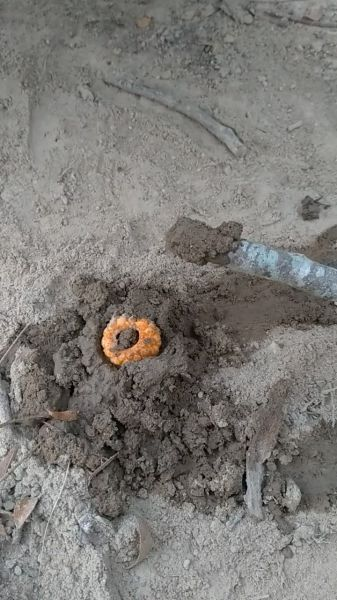eggs: (100, 313, 164, 366)
